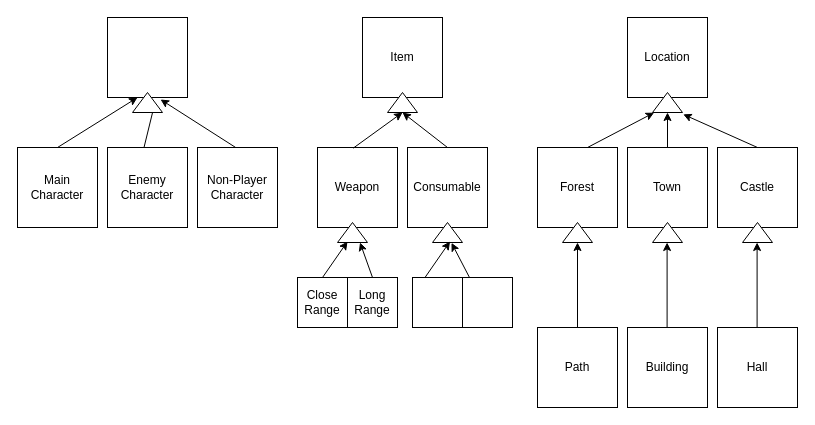
Some shapes in this 815 by 425 pixel diagram are drawn without their labels. The centre of each missing label's shape, as x and y in pixels:
Character: (x=147, y=57)
Healing: (x=437, y=302)
Mana: (x=487, y=302)
